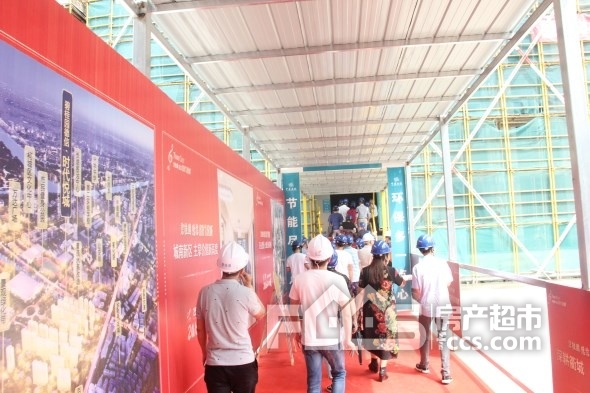blue: (369, 239, 391, 264), (414, 231, 434, 256)
white: (216, 240, 248, 283), (306, 234, 333, 270)
